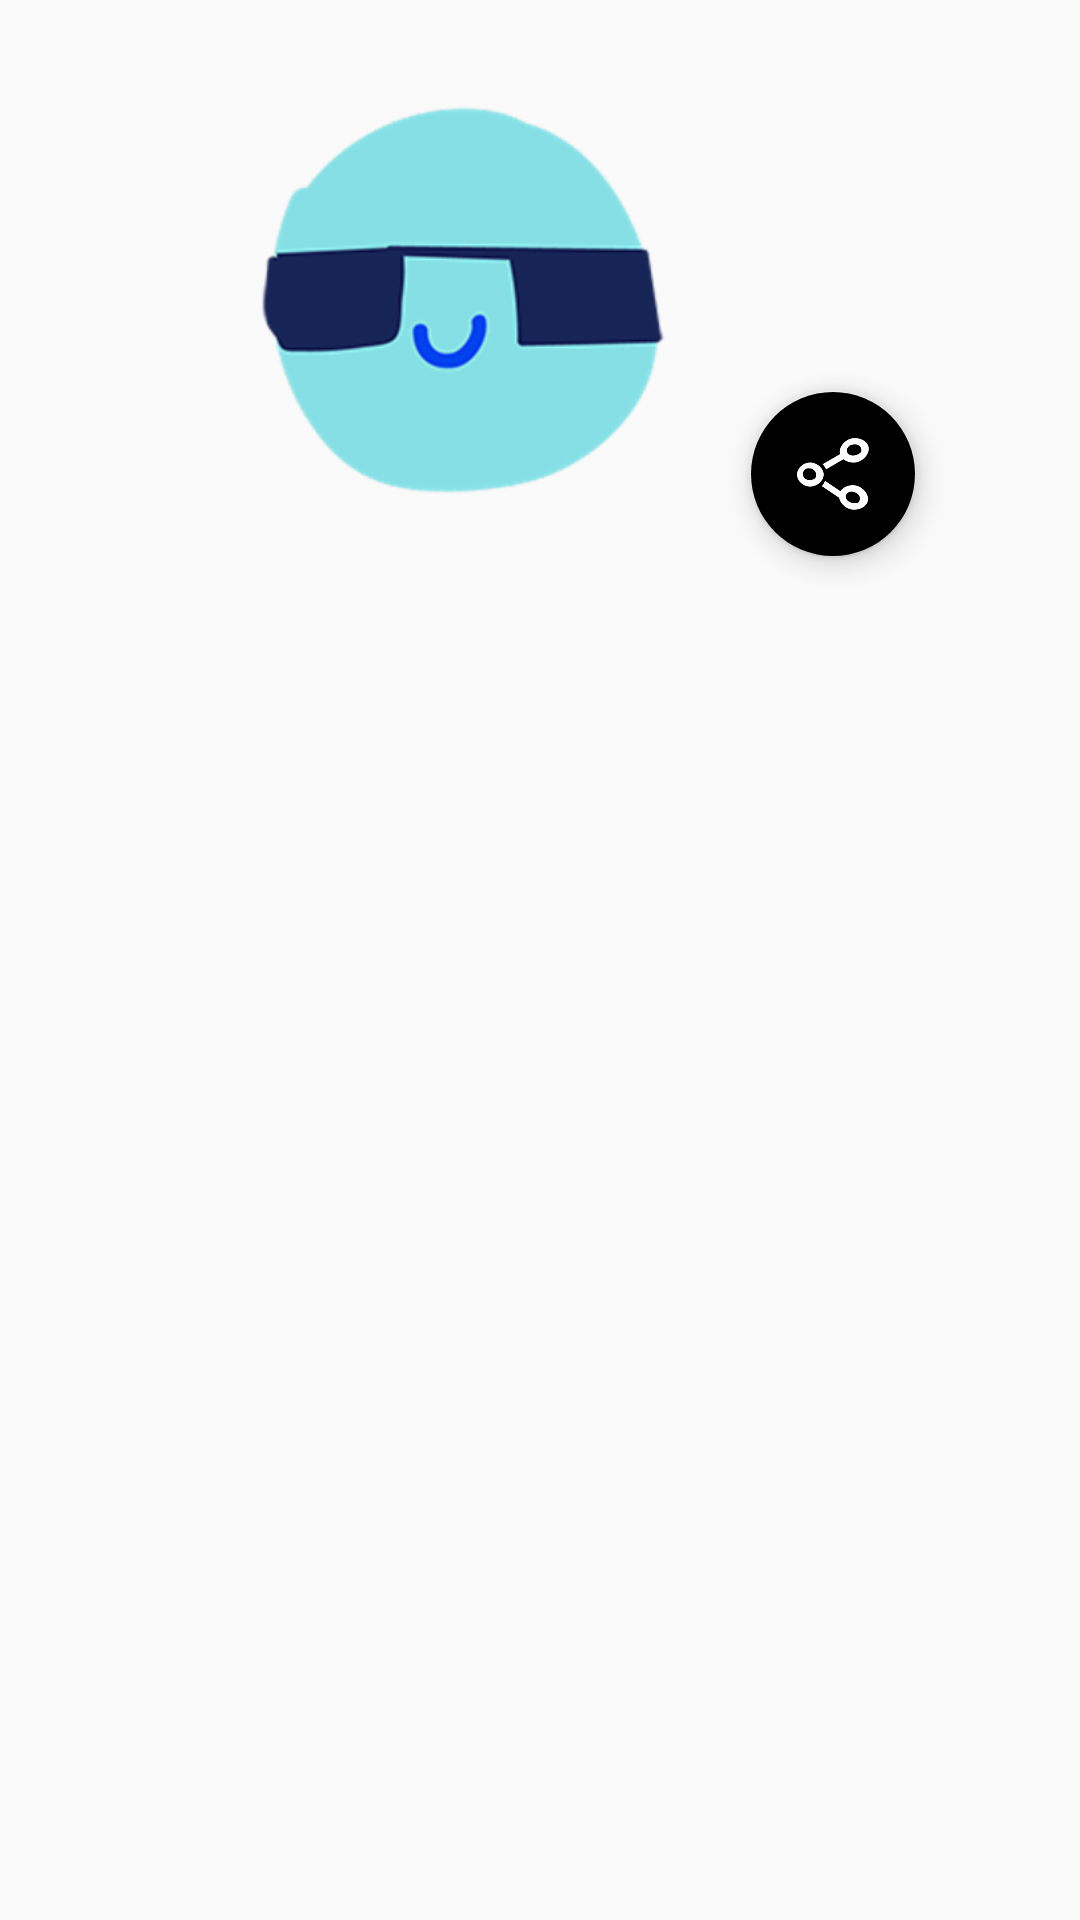

Where icons sit on this 1080x1920 app screen, as (x1, y1, x2, y2):
sharefab: (751, 392, 917, 558)
